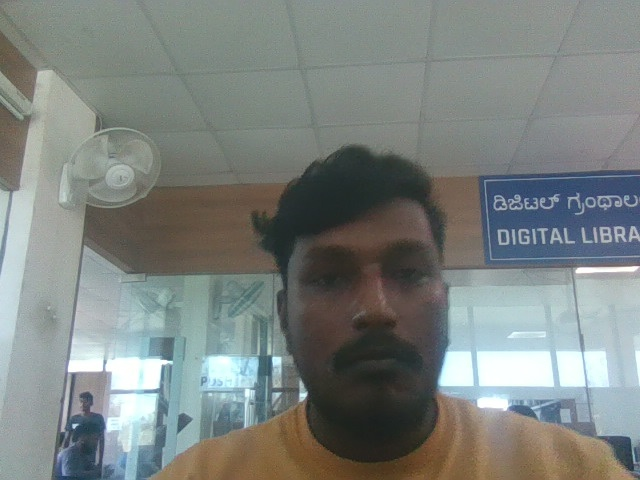real: (263, 131, 476, 433)
